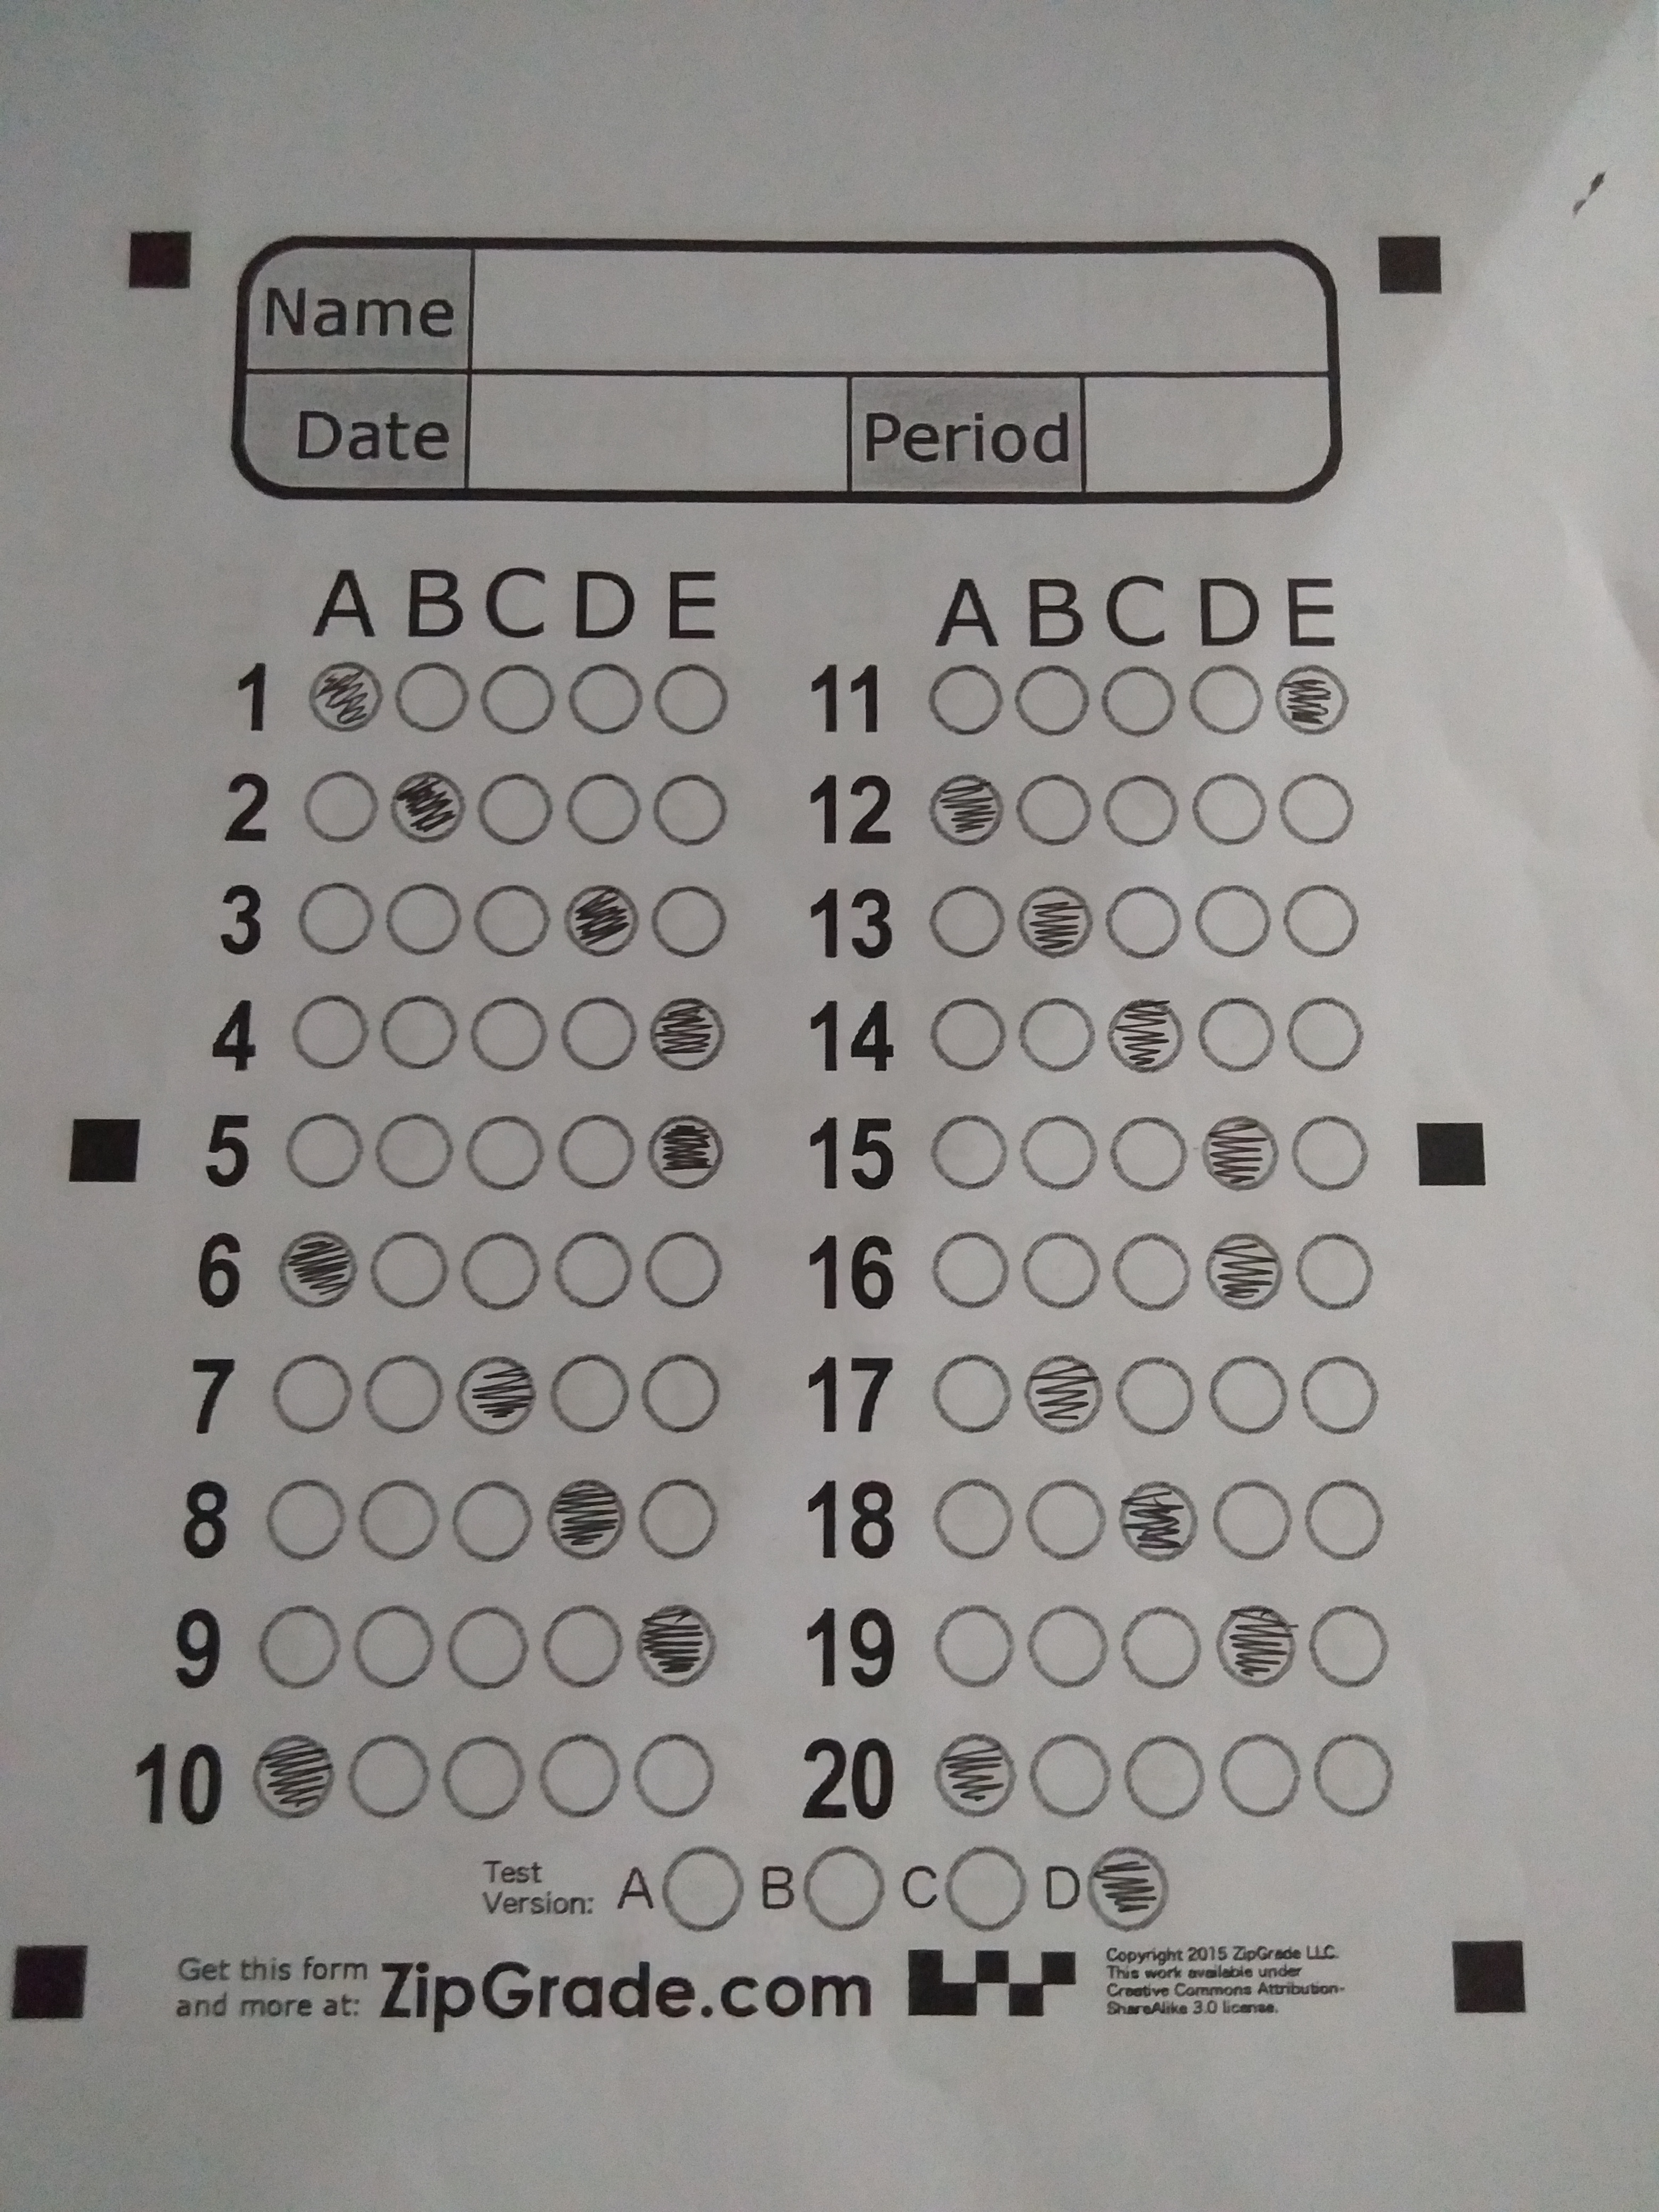not-c: (920, 1472, 1026, 1569), (1107, 1230, 1206, 1327), (796, 1843, 899, 1937), (934, 1844, 1040, 1933), (349, 1472, 444, 1569), (437, 1733, 532, 1832), (657, 1841, 749, 1940), (1019, 1479, 1115, 1573), (1290, 1226, 1385, 1320), (253, 1602, 349, 1695), (343, 1733, 439, 1825), (915, 1104, 1016, 1191), (537, 1730, 627, 1825), (538, 1602, 626, 1702), (349, 1601, 443, 1691), (931, 1602, 1021, 1696), (922, 1224, 1012, 1318), (1303, 1477, 1392, 1573), (1295, 1352, 1380, 1451), (1023, 1731, 1115, 1822), (1016, 1228, 1103, 1324), (373, 878, 464, 968), (552, 989, 645, 1078), (1119, 1604, 1208, 1696), (1023, 1602, 1115, 1691), (261, 1475, 349, 1569), (1284, 1115, 1384, 1197), (1215, 1731, 1303, 1822), (1312, 1731, 1401, 1822), (1011, 1111, 1103, 1198), (633, 1728, 718, 1822), (293, 880, 382, 968), (929, 1350, 1014, 1442), (1204, 1352, 1290, 1444), (1209, 1475, 1297, 1564), (1307, 1602, 1392, 1693), (924, 989, 1014, 1075), (641, 1230, 734, 1313), (279, 1108, 366, 1195), (444, 1606, 532, 1693), (636, 1482, 721, 1571), (467, 988, 551, 1078), (279, 991, 373, 1071), (462, 1109, 549, 1195), (545, 1353, 631, 1440), (270, 1350, 355, 1437), (390, 655, 474, 742), (376, 991, 464, 1075), (373, 1109, 455, 1198), (298, 759, 378, 850), (636, 1346, 727, 1426), (451, 1479, 532, 1569), (1122, 1731, 1202, 1822), (472, 766, 556, 852), (458, 1228, 544, 1312), (472, 881, 554, 968), (647, 883, 737, 961), (1114, 1350, 1199, 1432), (924, 660, 1011, 740), (648, 773, 737, 852), (554, 1226, 633, 1315), (554, 1113, 641, 1191), (1103, 883, 1190, 961), (650, 664, 739, 740), (1014, 998, 1103, 1075), (368, 1228, 451, 1308), (1192, 996, 1276, 1076), (1284, 998, 1368, 1078), (1277, 885, 1364, 961), (1190, 768, 1270, 850), (364, 1355, 448, 1433), (1100, 773, 1185, 850), (479, 664, 561, 742), (1014, 773, 1093, 855), (927, 881, 1006, 961), (1277, 772, 1359, 848), (1107, 1111, 1183, 1191), (565, 768, 647, 843), (1194, 885, 1274, 960), (1096, 664, 1176, 737), (1011, 665, 1091, 737), (1188, 664, 1263, 733), (570, 665, 645, 733)
taken-c: (247, 1730, 338, 1822), (1084, 1841, 1171, 1933), (636, 1595, 721, 1689), (931, 1730, 1021, 1817), (1019, 1350, 1107, 1439), (1213, 1601, 1298, 1691), (545, 1474, 629, 1564), (1197, 1108, 1281, 1198), (455, 1352, 538, 1439), (1119, 1475, 1201, 1564), (275, 1226, 359, 1312), (1103, 996, 1190, 1076), (648, 1106, 728, 1191), (650, 991, 728, 1076), (390, 763, 469, 846), (1206, 1228, 1284, 1312), (1016, 878, 1094, 961), (563, 880, 641, 961), (925, 772, 1007, 850), (1274, 657, 1352, 738), (307, 657, 387, 735)
